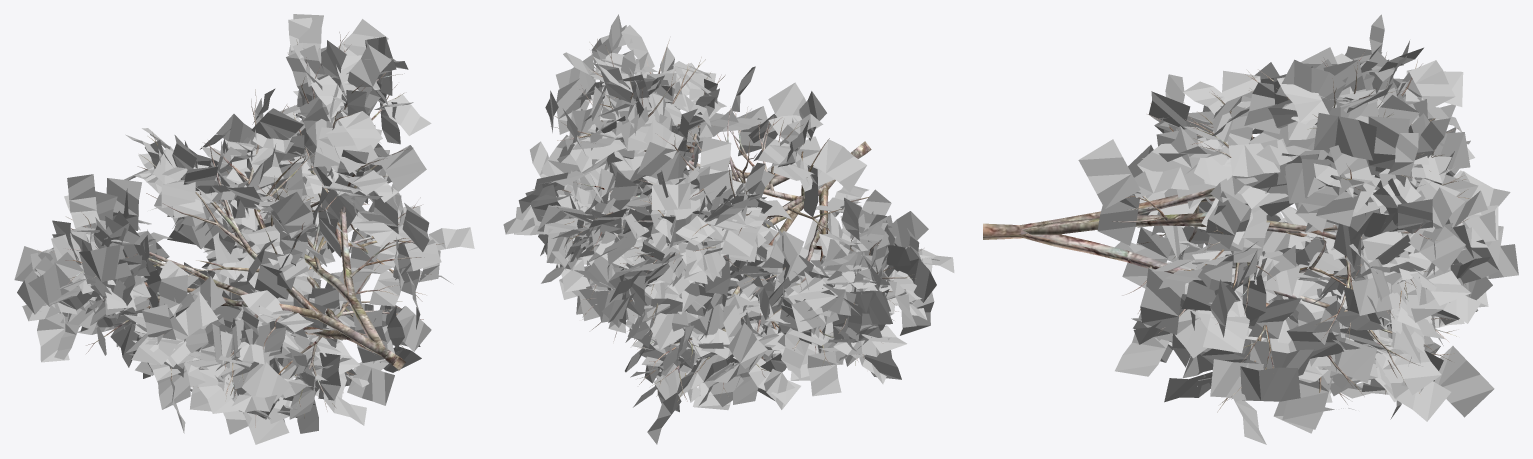
The model's file is tree2.dae.
The picture shows the model from 3 angles, left to right: view 1: azimuth 30°, elevation 25°; view 2: azimuth 150°, elevation 25°; view 3: azimuth 270°, elevation 25°; orthographic projection. The views are drawn at different scales.
Visible parts, largest first — view 1: branch.1000, tree; view 2: branch.1000, tree; view 3: branch.1000, tree.
Part boxes in pixels (bbox=[...]): branch.1000: bbox=[14, 14, 474, 444]; tree: bbox=[38, 32, 443, 427]; branch.1000: bbox=[503, 14, 954, 444]; tree: bbox=[533, 39, 923, 402]; branch.1000: bbox=[1078, 14, 1518, 444]; tree: bbox=[983, 51, 1470, 412].
Size of the model in its own units: 16.45 by 16.3 by 14.46.
